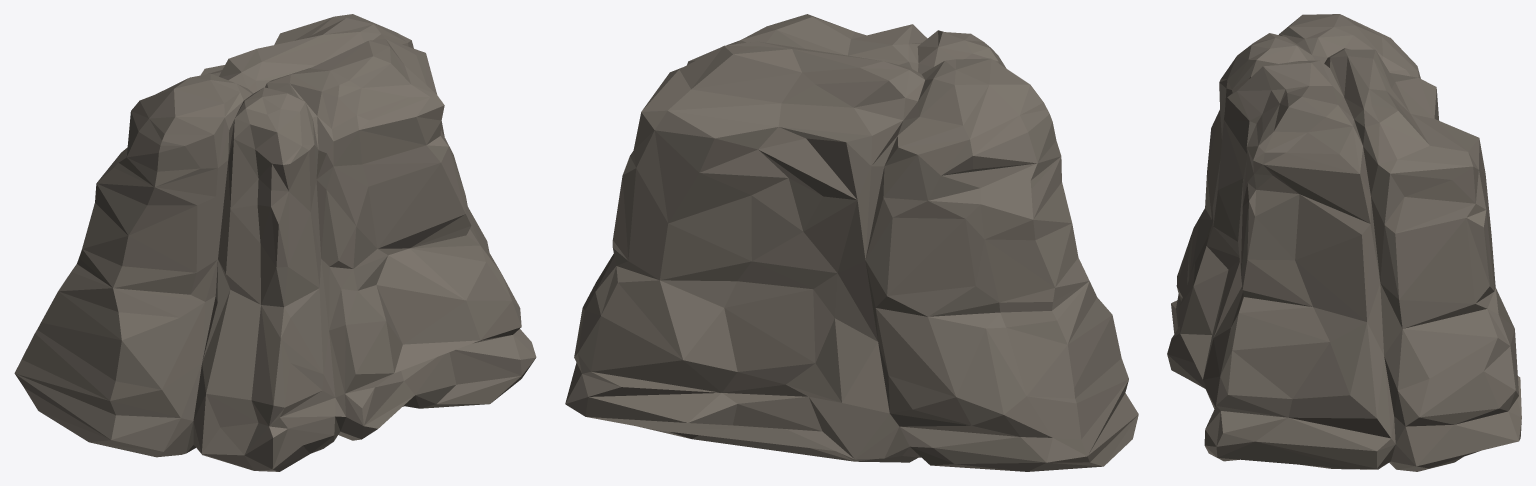
The model's file is SM_Env_Rock_Large_02.fbx.
The picture shows the model from 3 angles, left to right: view 1: azimuth 30°, elevation 25°; view 2: azimuth 150°, elevation 25°; view 3: azimuth 270°, elevation 25°; orthographic projection. The views are drawn at different scales.
Visible parts, largest first — view 1: SM_Env_Rock_Large_02; view 2: SM_Env_Rock_Large_02; view 3: SM_Env_Rock_Large_02.
Boxes of the visible parts, left/top/right/bottom form: SM_Env_Rock_Large_02: left=14, top=14, right=536, bottom=471; SM_Env_Rock_Large_02: left=565, top=14, right=1138, bottom=471; SM_Env_Rock_Large_02: left=1167, top=14, right=1521, bottom=471.
Size of the model in its own units: 5.46 by 3.83 by 3.73.
